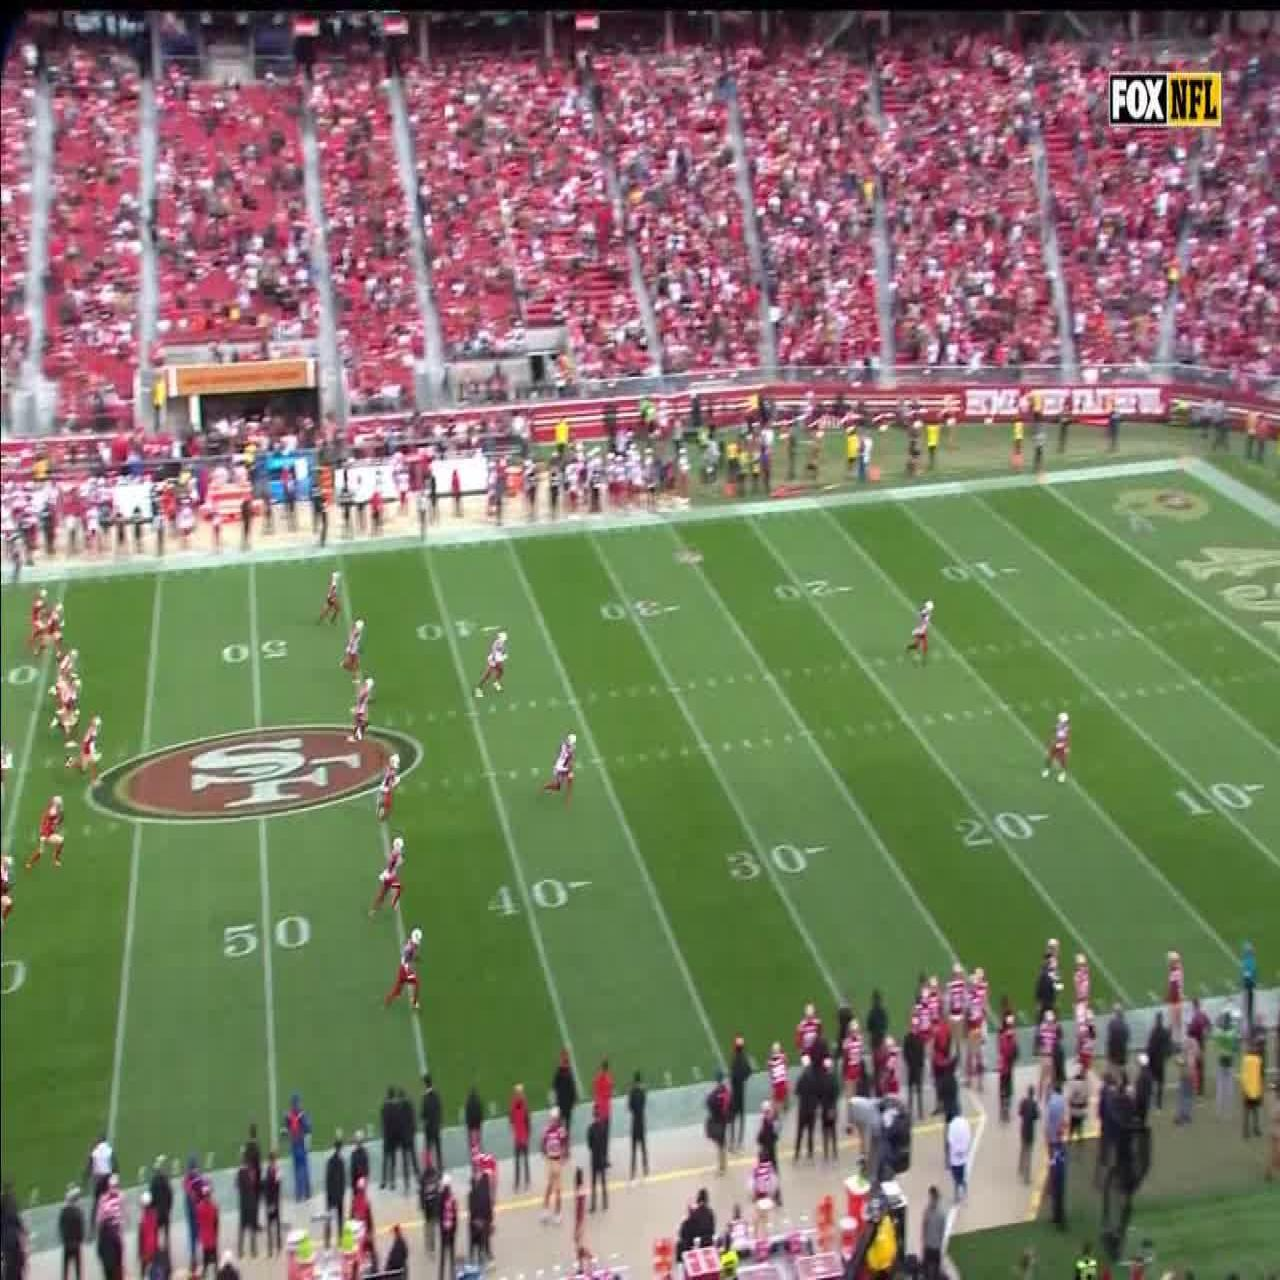10R: (1175, 782, 1264, 817), (940, 560, 1022, 583)
20R: (954, 806, 1049, 847), (775, 578, 857, 602)
30R: (727, 843, 833, 880), (600, 598, 681, 620)
40R: (488, 879, 592, 918), (416, 619, 505, 640)
50: (223, 914, 313, 960), (222, 639, 288, 663)
